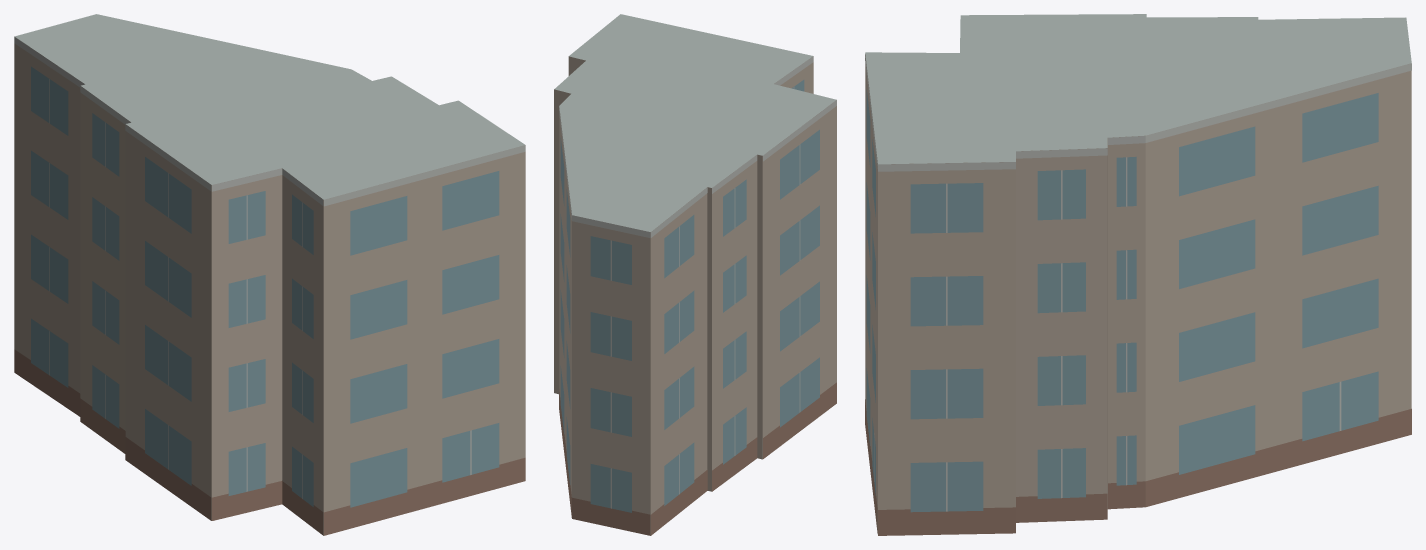
The model's file is survey-upis-32590641.glb.
The picture shows the model from 3 angles, left to right: view 1: azimuth 30°, elevation 25°; view 2: azimuth 150°, elevation 25°; view 3: azimuth 270°, elevation 25°; orthographic projection. The views are drawn at different scales.
Visible parts, largest first — view 1: survey-upis-32590641.tmp; view 2: survey-upis-32590641.tmp; view 3: survey-upis-32590641.tmp.
Boxes of the visible parts, x1,y1,x2,y2 form: survey-upis-32590641.tmp: (14, 14, 525, 535); survey-upis-32590641.tmp: (554, 14, 836, 535); survey-upis-32590641.tmp: (865, 14, 1411, 535).
Bounding box in the file's own units: 10.6 × 12.2 × 16.28.
